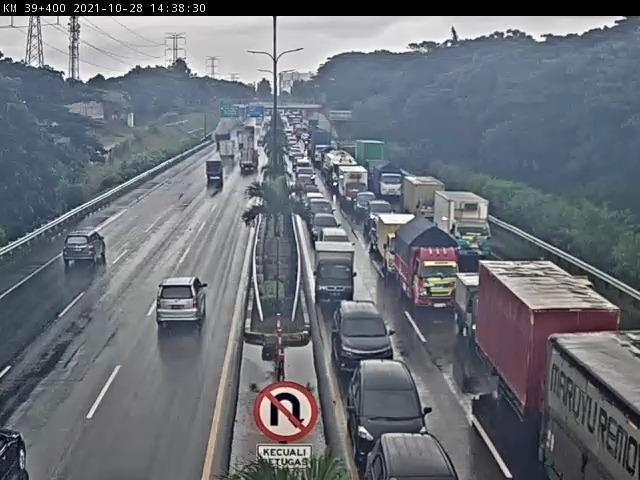car: (350, 362, 429, 434), (373, 435, 458, 480), (336, 301, 394, 358), (155, 276, 213, 332), (317, 245, 362, 301), (63, 228, 108, 266), (319, 228, 352, 248), (314, 216, 341, 238), (206, 160, 226, 183), (372, 204, 395, 224), (308, 203, 334, 220), (361, 196, 378, 214), (304, 185, 320, 197), (299, 175, 313, 188), (297, 168, 315, 178), (308, 196, 323, 207), (296, 161, 312, 170), (293, 150, 305, 161), (325, 203, 326, 204)
truck: (486, 264, 589, 416), (401, 230, 458, 309), (442, 194, 494, 261), (459, 275, 487, 343), (382, 216, 409, 270), (407, 178, 440, 222), (341, 169, 370, 205), (380, 166, 406, 201), (326, 152, 348, 192), (361, 142, 386, 177), (311, 132, 332, 164), (242, 147, 261, 173), (222, 139, 237, 157), (258, 129, 269, 146), (240, 129, 251, 146), (217, 131, 229, 144), (248, 123, 258, 137)
